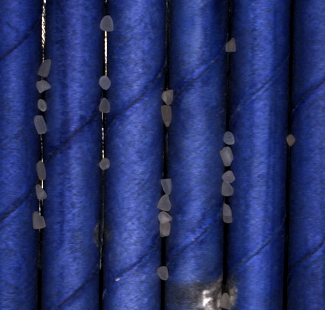broken_grain: (32, 114, 48, 139), (218, 146, 234, 169), (36, 56, 52, 78), (32, 210, 47, 232), (34, 77, 53, 94), (155, 195, 174, 212), (33, 183, 49, 203), (99, 15, 115, 34), (97, 74, 112, 94), (222, 168, 237, 186), (224, 35, 237, 55), (159, 178, 174, 195), (158, 222, 173, 239), (99, 96, 111, 117), (220, 180, 234, 198), (161, 88, 174, 107), (157, 264, 170, 283), (223, 130, 237, 147), (98, 157, 112, 173), (37, 97, 49, 113), (286, 133, 297, 147)
complete_grain: (36, 158, 47, 182)
milky_broken_grain: (221, 202, 234, 225), (155, 211, 174, 225)
yellow_grain: (158, 103, 174, 129)
